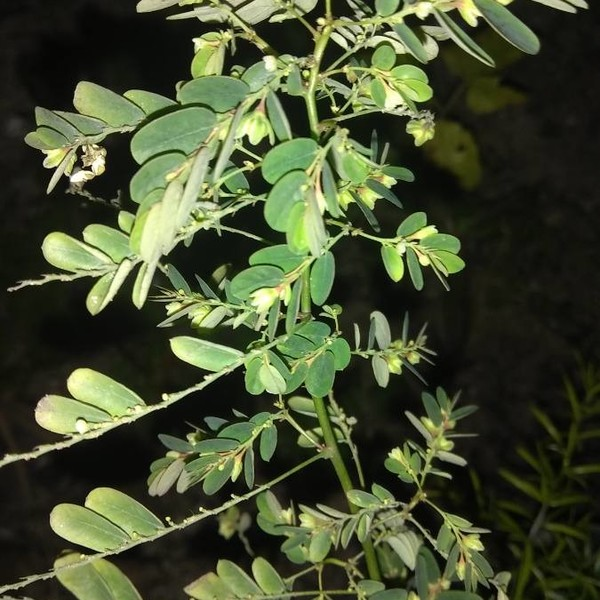obstacle: (34, 43, 464, 580)
